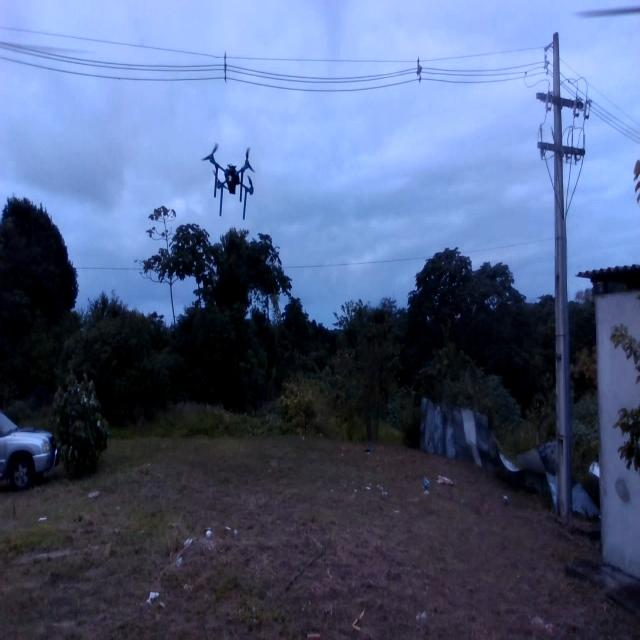-uav-: (198, 129, 269, 240)
